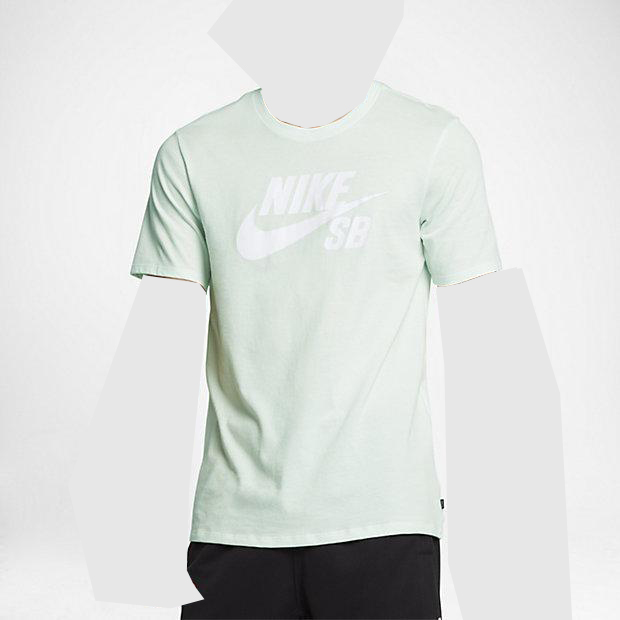teeshirt: (131, 85, 509, 546)
